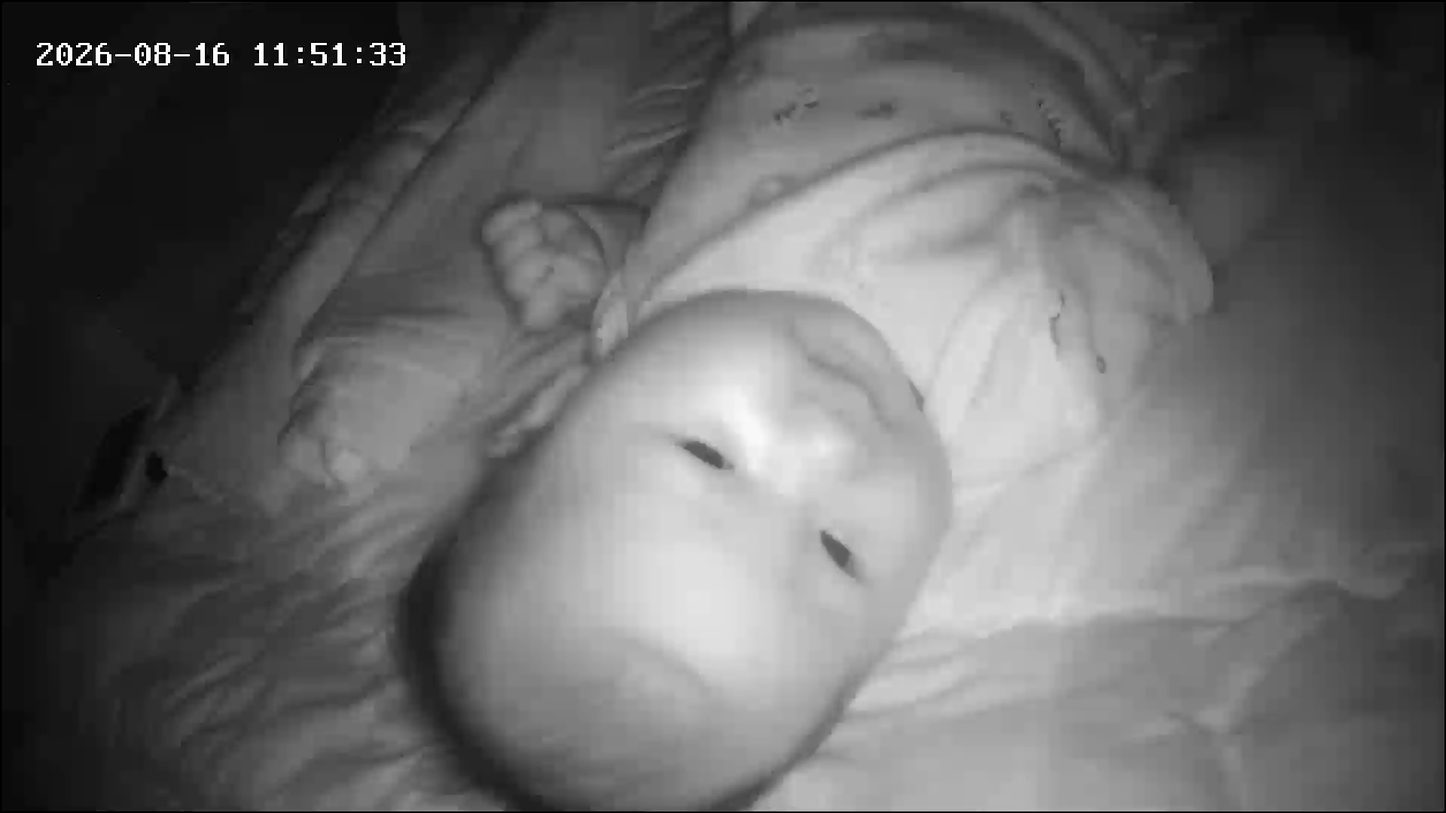baby: (395, 0, 1299, 810)
baby_face: (396, 287, 975, 808)
